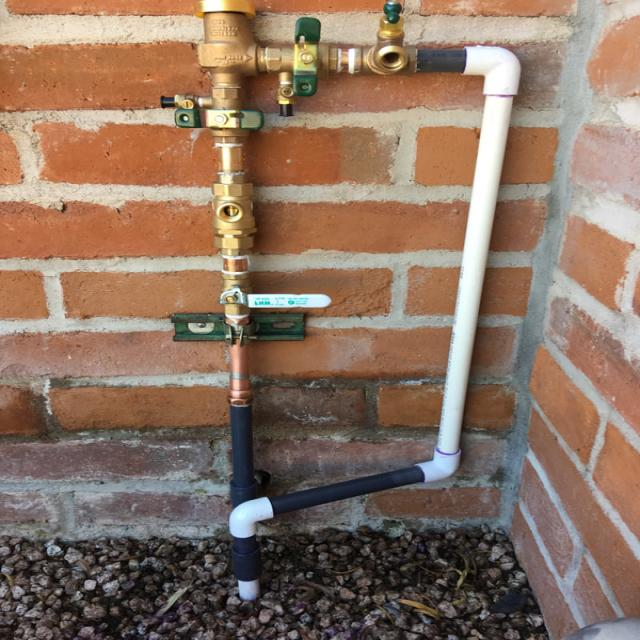Lever Handle Valve Threaded: (260, 16, 357, 97), (218, 270, 329, 320)
